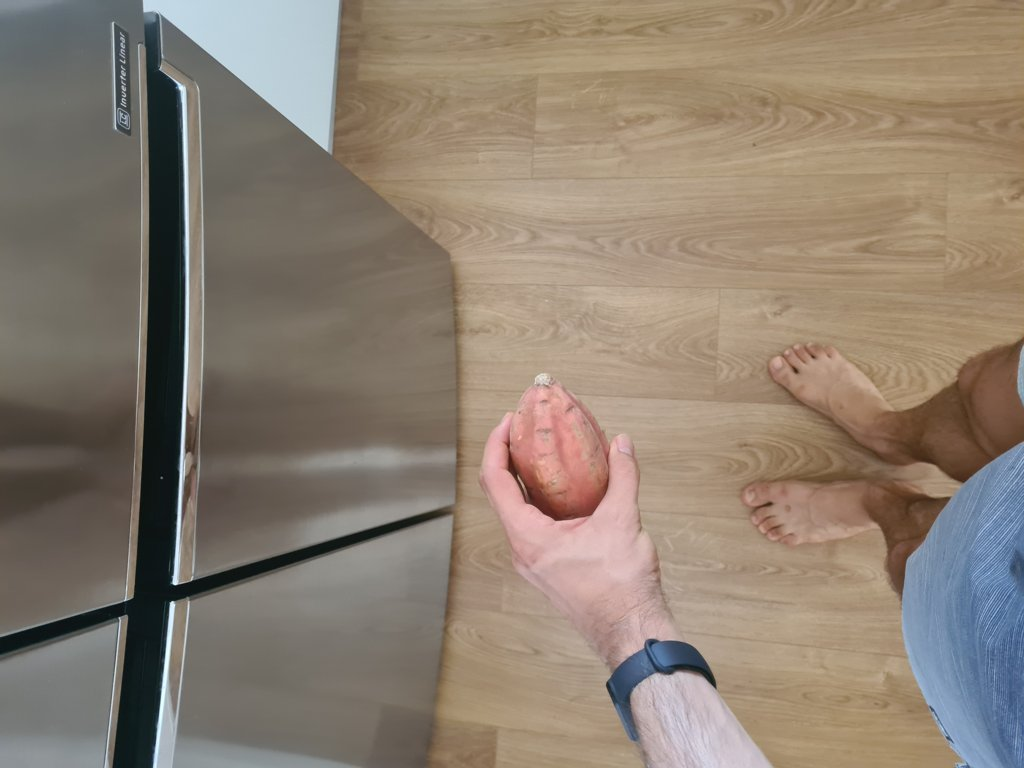Sweet Potatow: (511, 372, 617, 521)
